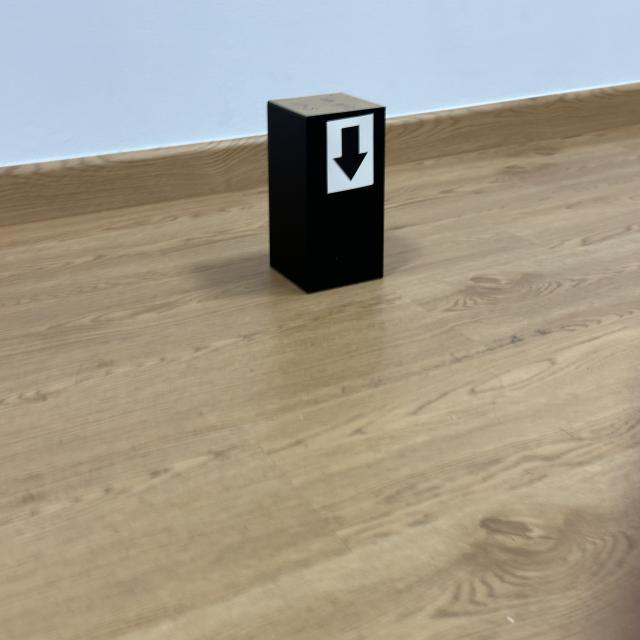DOWN: (334, 125, 368, 180)
